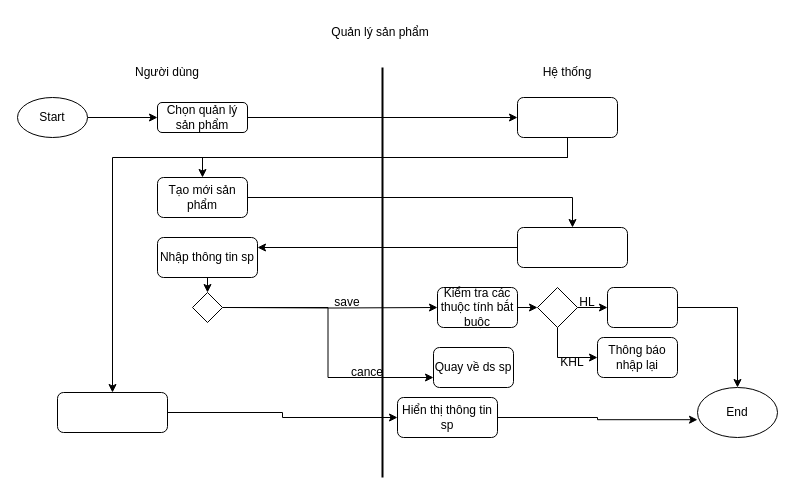
Some shapes in this 795 by 495 pixel diagram are drawn without their labels. Each missing label, with the box of its shape:
Hiển thị form nhâp tt sp: (516, 226, 628, 268)
Hệ thống hiển thị danh sách sp: (516, 96, 618, 138)
Hợp lệ: (536, 286, 578, 328)
Lưu vào dsdl: (606, 286, 678, 328)
Xem thông tin sp: (56, 392, 168, 432)
